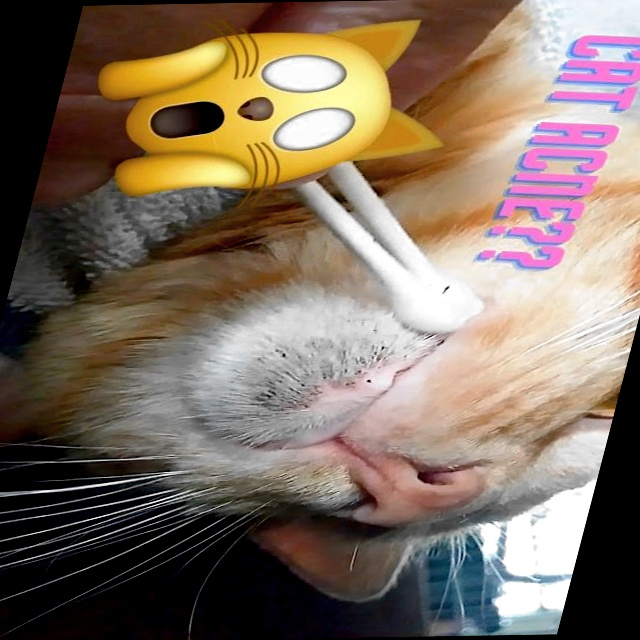acne: (214, 335, 400, 421)
